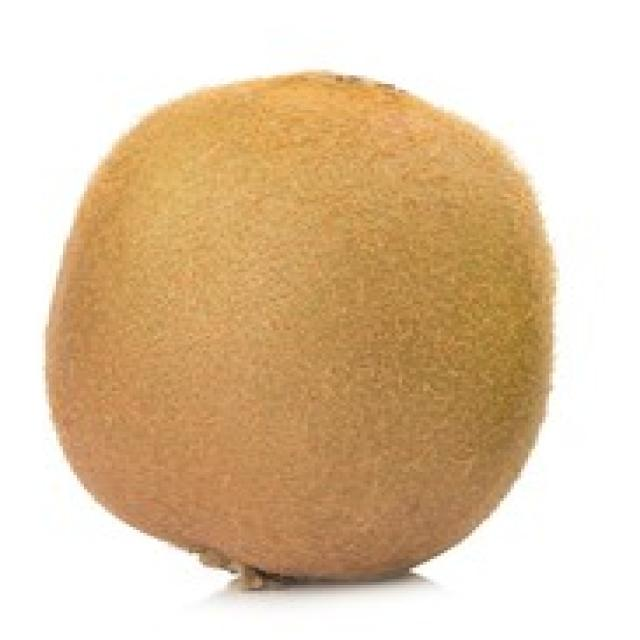kiwi: (52, 75, 556, 582)
